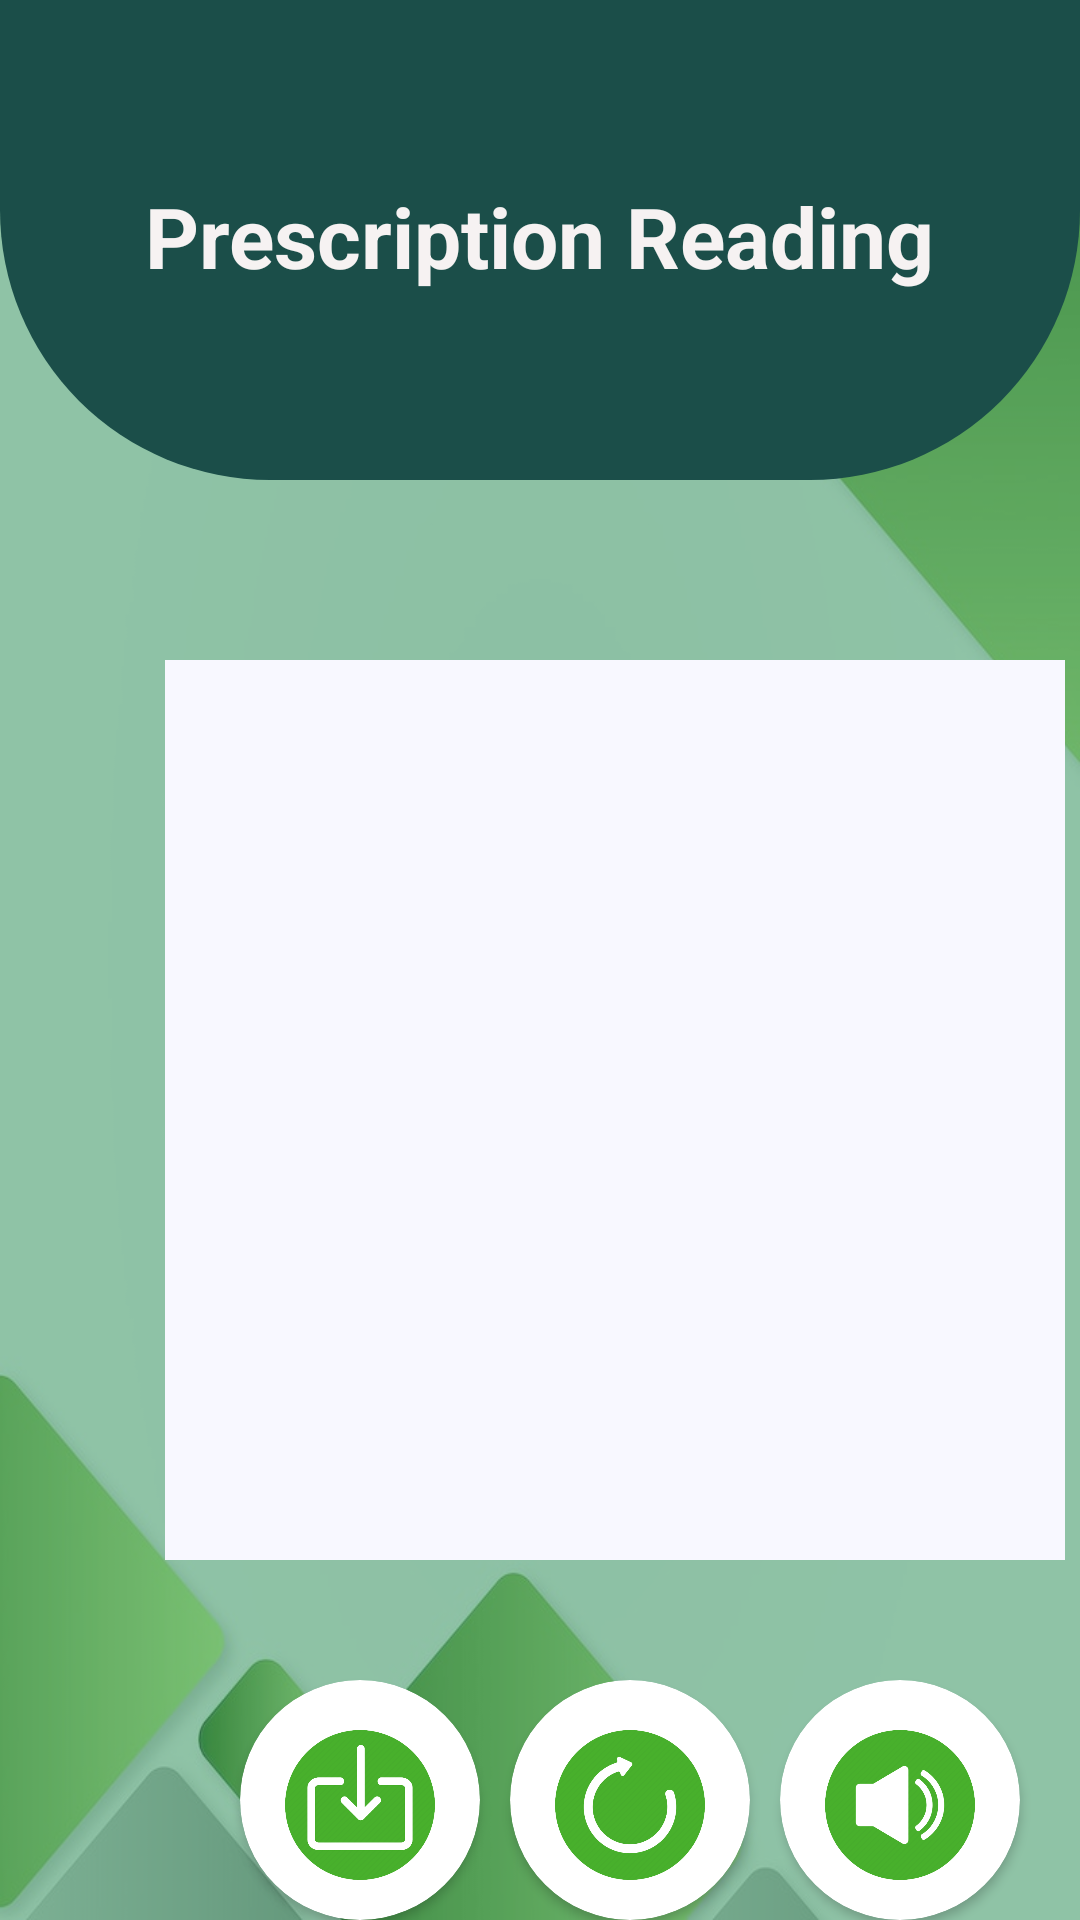

Where to tap for icons on this 1080 x 1920 app screen, as (x,y):
down: (360,1805)
rotate: (630,1805)
sound: (900,1805)
